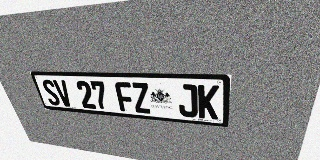2: (75, 81, 96, 109)
7: (89, 81, 110, 110)
F: (114, 82, 135, 112)
J: (177, 84, 198, 118)
K: (198, 85, 219, 120)
S: (40, 79, 62, 106)
V: (52, 80, 74, 107)
Z: (131, 82, 152, 114)
